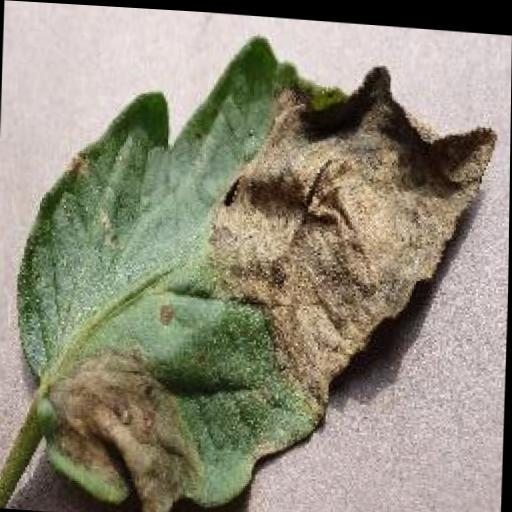Late Blight: (11, 17, 504, 512)
